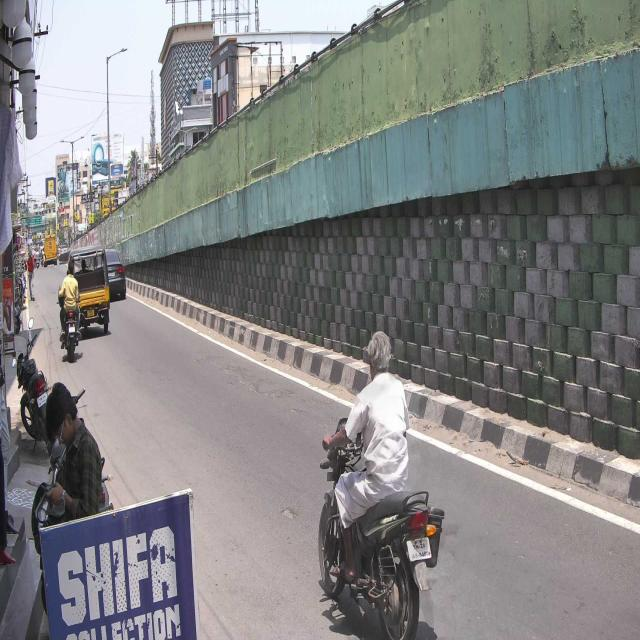single_rider: (317, 329, 446, 640)
